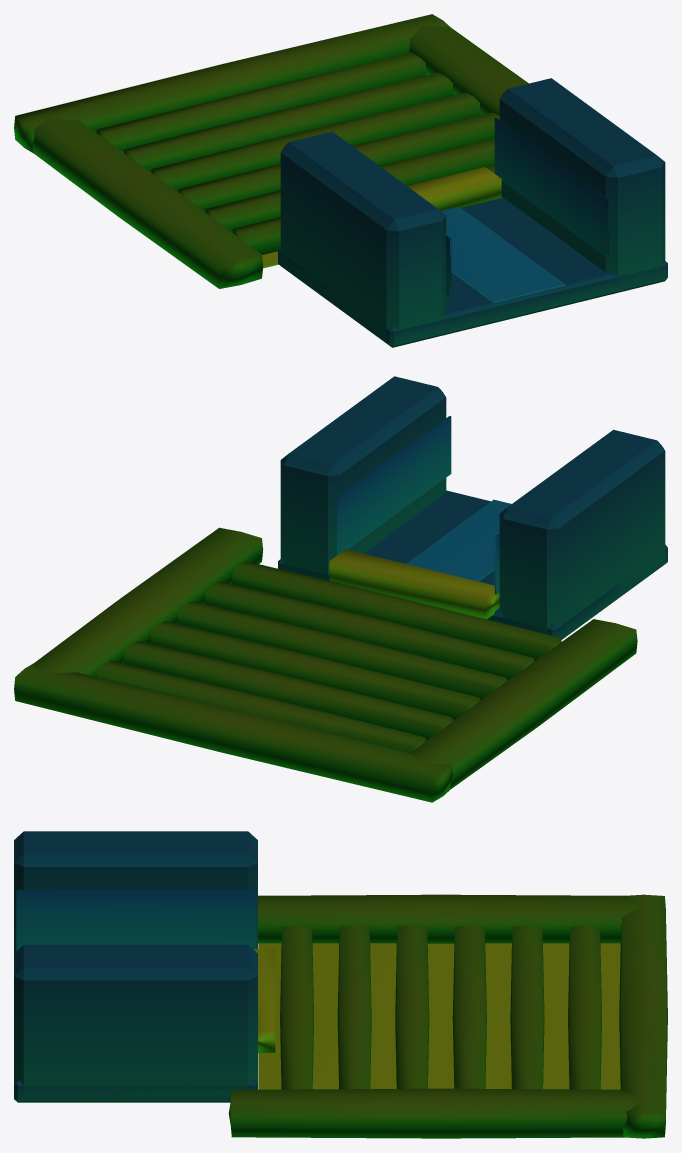
The model's file is shrine_channel_spillway.glb.
3 views of the same model, one above another, from view 1: azimuth 30°, elevation 25°; view 2: azimuth 150°, elevation 25°; view 3: azimuth 270°, elevation 25° (orthographic). The views are drawn at different scales.
Parts seen in each view (by area): view 1: shrine_channel_spillway; view 2: shrine_channel_spillway; view 3: shrine_channel_spillway.
Boxes of the visible parts, bbox=[...] form: shrine_channel_spillway: bbox=[14, 14, 667, 347]; shrine_channel_spillway: bbox=[14, 376, 667, 802]; shrine_channel_spillway: bbox=[14, 831, 667, 1138].
Size of what is drawn, in the model's own units: 1.06 by 0.3 by 1.34.
